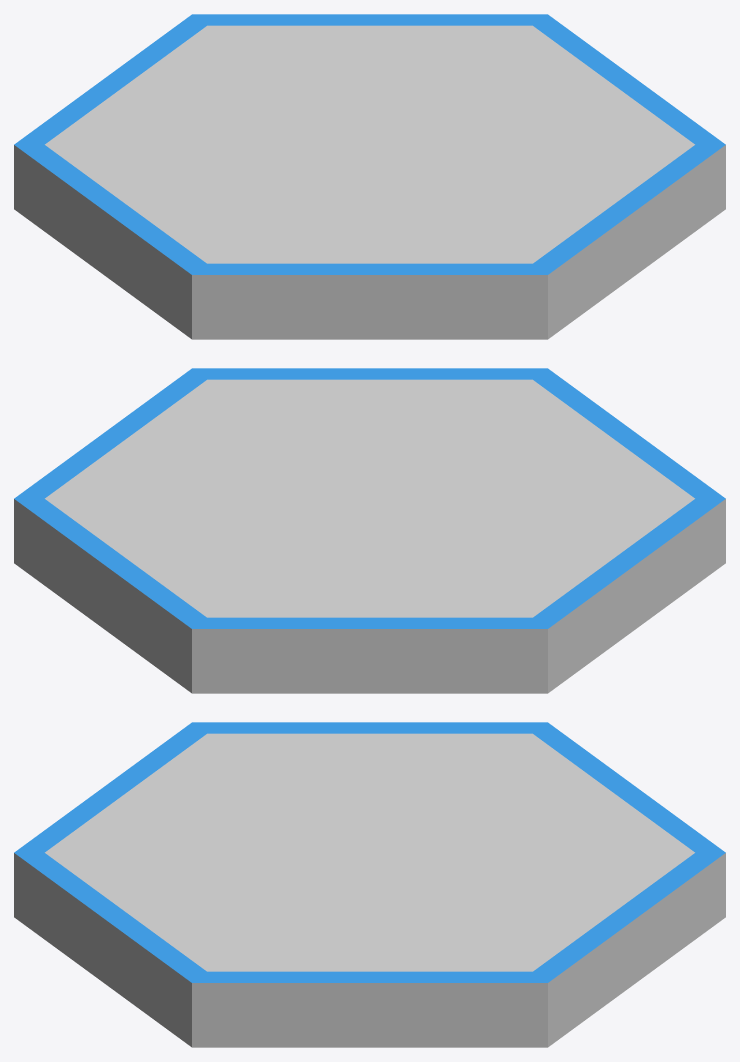
The picture shows the model from 3 angles, top to bottom: view 1: azimuth 30°, elevation 25°; view 2: azimuth 150°, elevation 25°; view 3: azimuth 270°, elevation 25°; orthographic projection.
Parts seen in each view (by area): view 1: 柱体; view 2: 柱体; view 3: 柱体.
Boxes of the visible parts, x1,y1,x2,y2 form: 柱体: (14, 14, 725, 339); 柱体: (14, 368, 725, 693); 柱体: (14, 722, 725, 1047).
Size of the model in its own units: 173 by 20 by 200.
